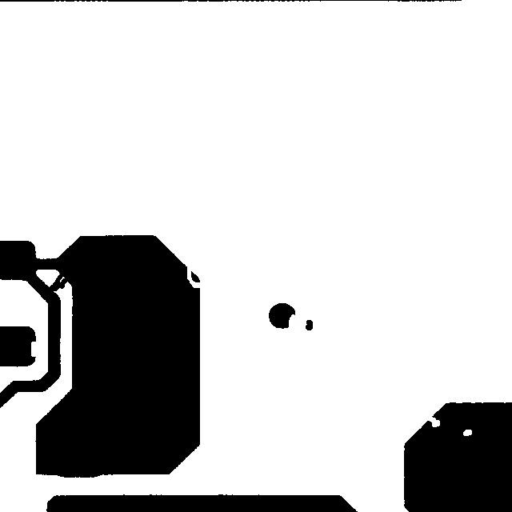copper: (298, 312, 320, 338)
mousebite: (23, 334, 46, 364), (281, 306, 303, 335), (421, 410, 443, 430)
open: (179, 257, 211, 295)
pin-hole: (455, 422, 479, 443)
short: (41, 264, 74, 298)
